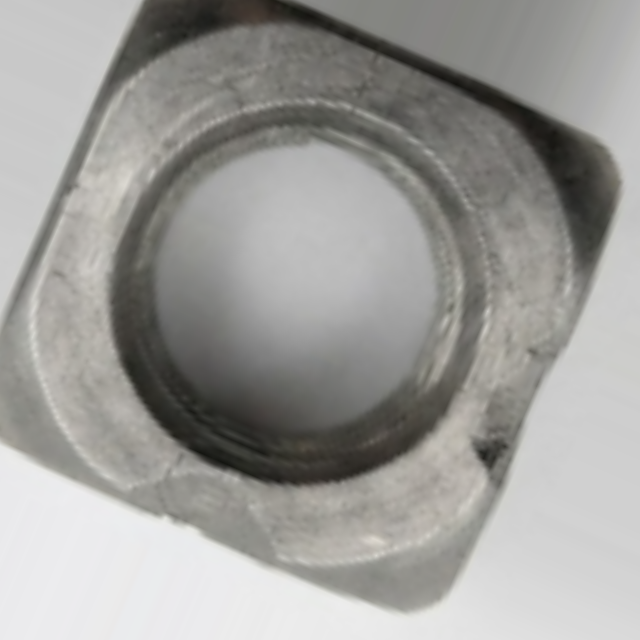defect: (111, 465, 299, 581), (472, 294, 586, 481)
